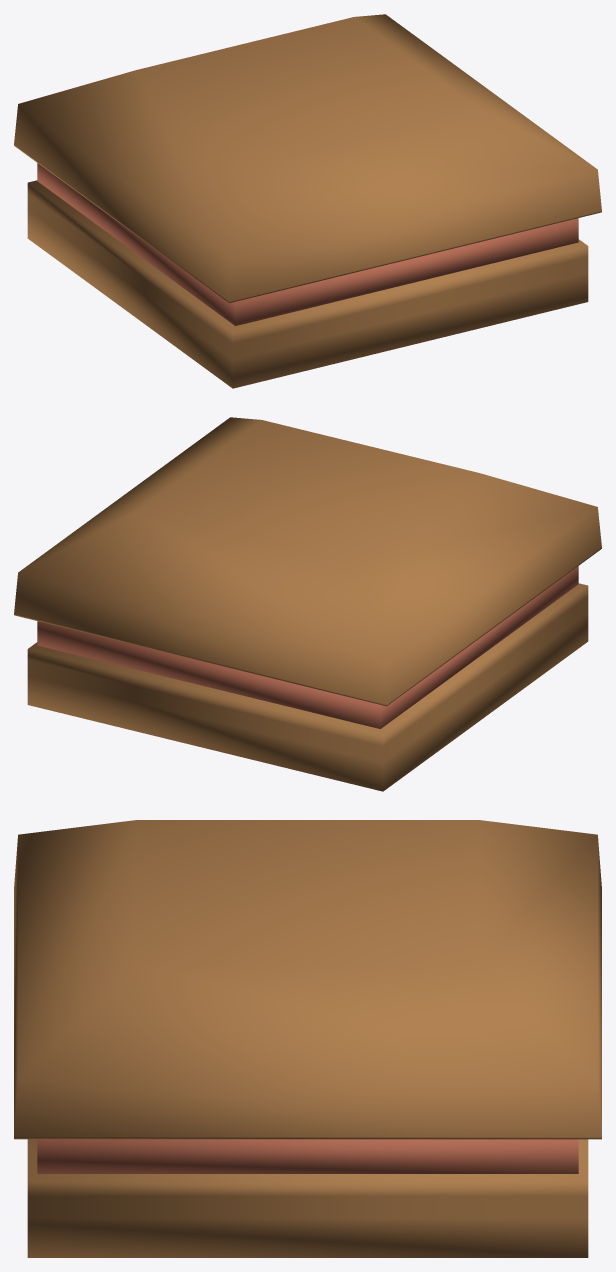
Rendered from hamBurger.gltf.
3 renders of one model, top to bottom at view 1: azimuth 30°, elevation 25°; view 2: azimuth 150°, elevation 25°; view 3: azimuth 270°, elevation 25°, orthographic. The views are drawn at different scales.
Visible parts, largest first — view 1: Cube.002, Cube, Cube.001; view 2: Cube.002, Cube, Cube.001; view 3: Cube.002, Cube, Cube.001.
Boxes of the visible parts, x1,y1,x2,y2 form: Cube.002: (14, 14, 601, 303); Cube: (27, 180, 588, 388); Cube.001: (37, 163, 578, 325); Cube.002: (14, 417, 601, 706); Cube: (27, 583, 588, 791); Cube.001: (37, 566, 578, 728); Cube.002: (14, 820, 601, 1139); Cube: (27, 1139, 588, 1257); Cube.001: (37, 1139, 578, 1173).
Size of the model in its own units: 3.96 by 1.84 by 3.96.
